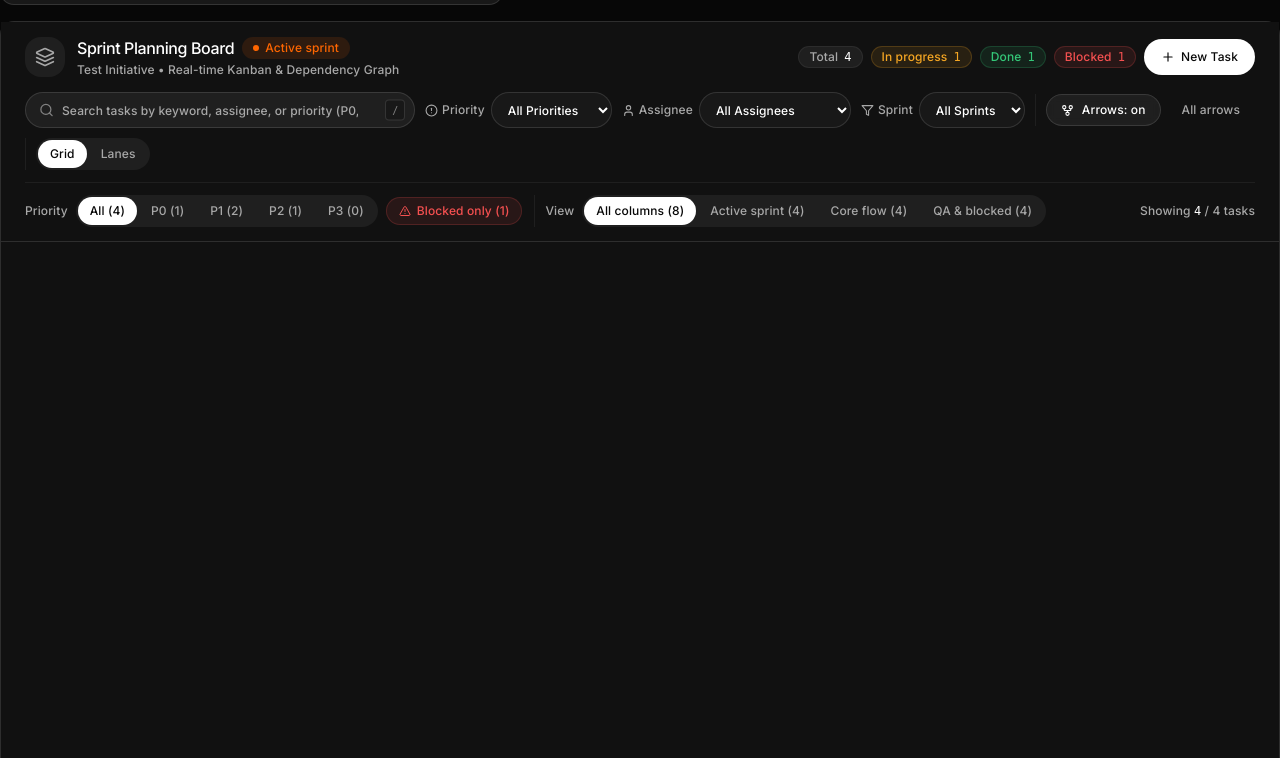
Scenario: KanbanTab Task Dependencies and Blockers › filters visible columns with column presets (Active Sprint, Core Flow, QA)
The image size is (1280, 758).
What coordinates should you click on to do the following:
click the radio button with id "kanban-column-preset-active"
I would click on:
 (757, 211)
Its box is 698,197 -> 816,225.
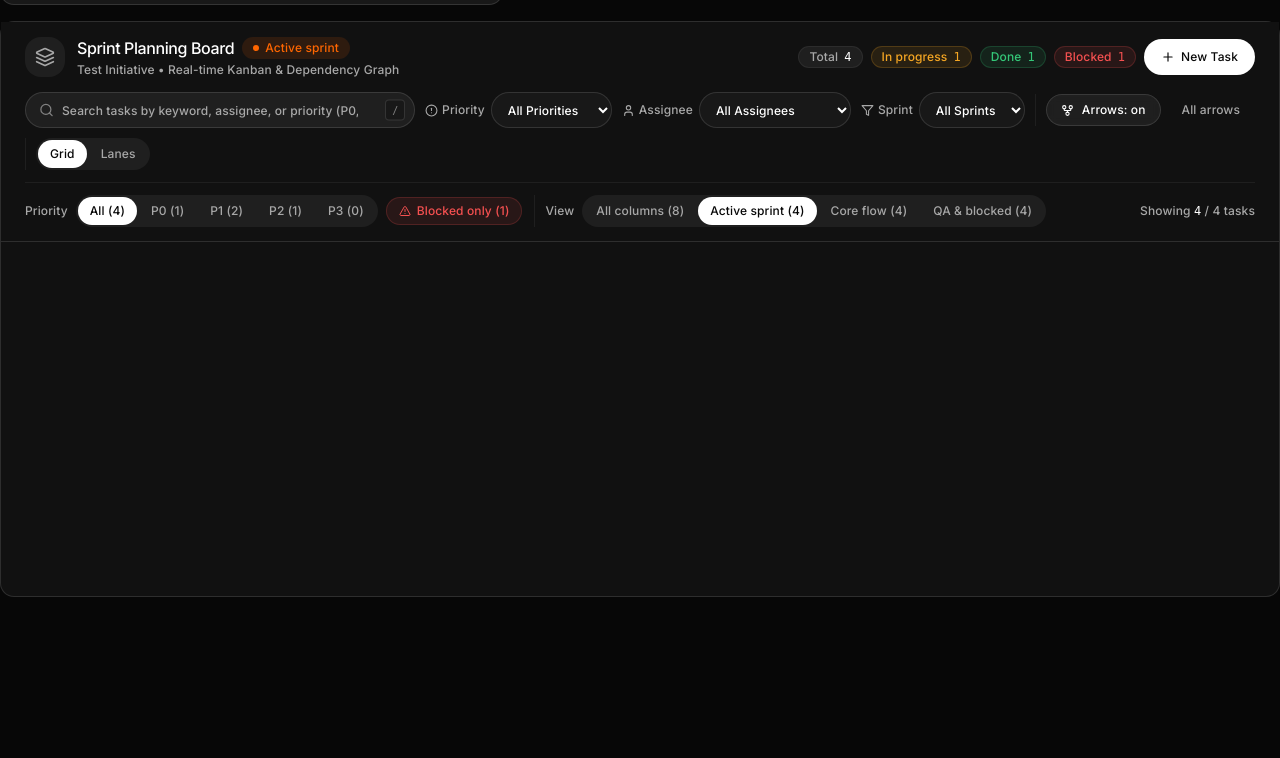
// Switch to All Columns preset
What coordinates should you click on to do the following:
click the radio button with id "kanban-column-preset-all"
I would click on:
 (640, 211)
Its box is 584,197 -> 696,225.
(page scrolled)
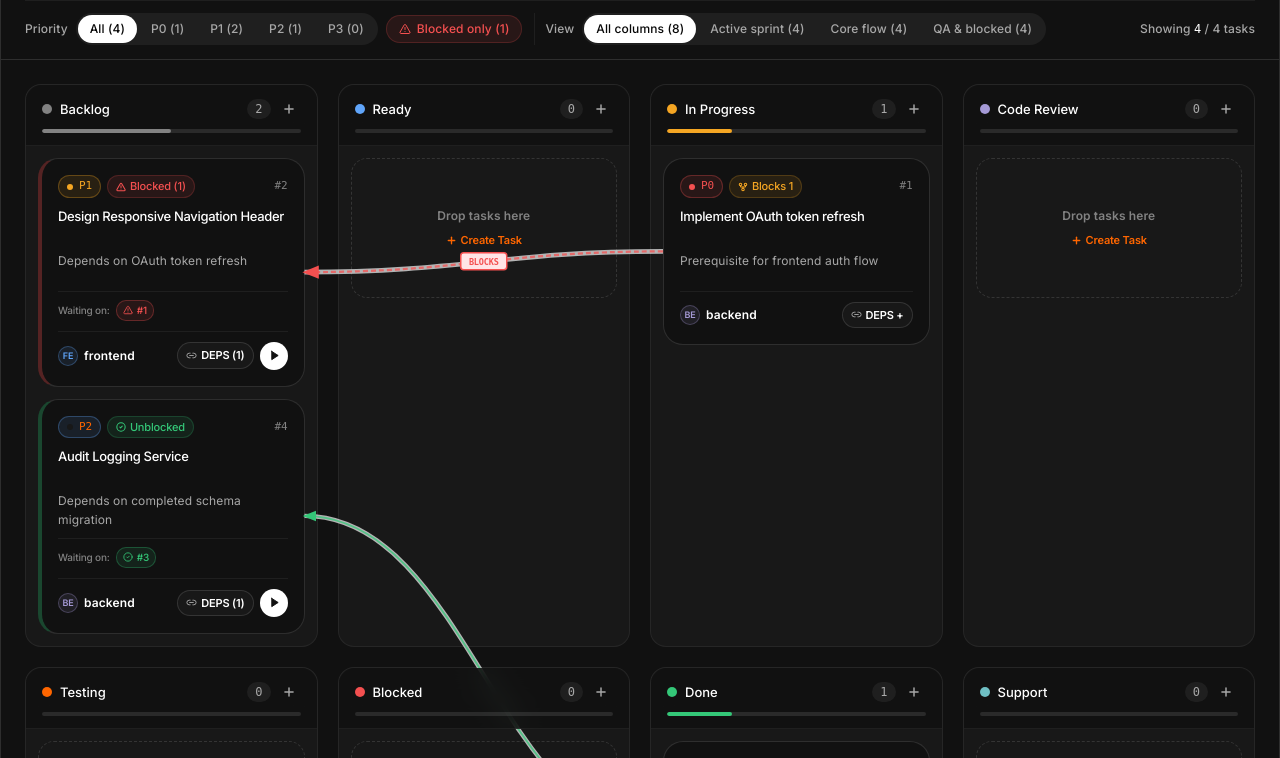
expect the element with id "kanban-column-backlog" is shown: met, box 25,84 -> 318,647
